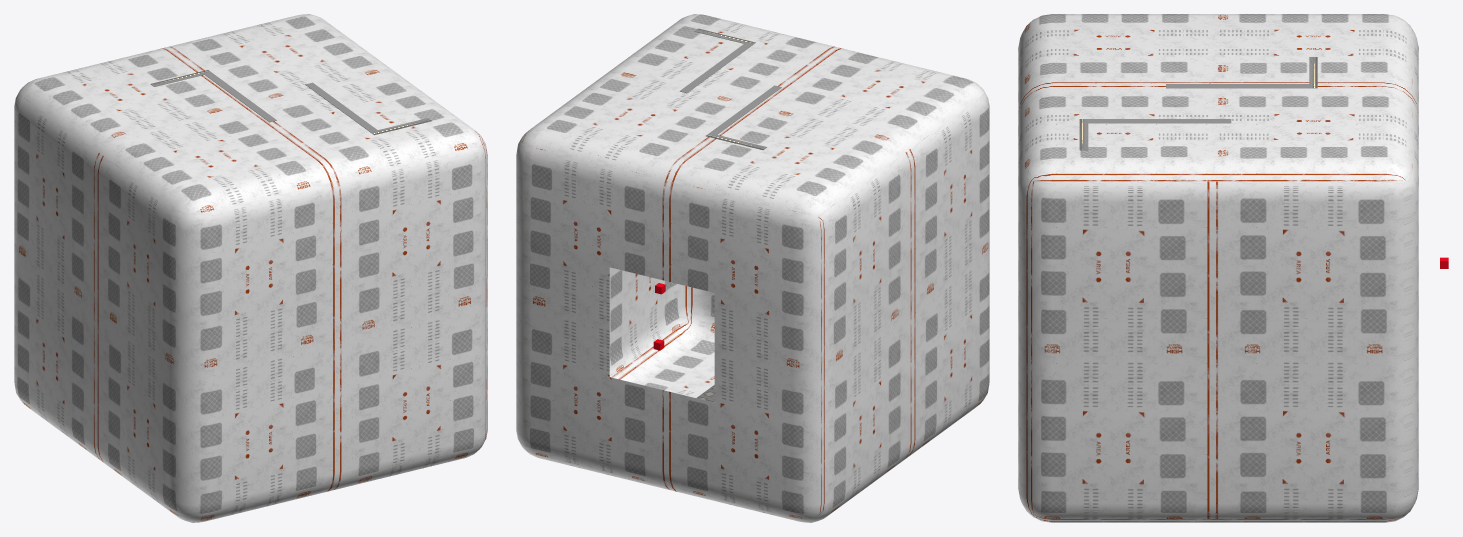
File: test-lvl.glb
The picture shows the model from 3 angles, left to right: view 1: azimuth 30°, elevation 25°; view 2: azimuth 150°, elevation 25°; view 3: azimuth 270°, elevation 25°; orthographic projection. The views are drawn at different scales.
Visible parts, largest first — view 1: Cube, Cube.002; view 2: Cube, Cube.002; view 3: Cube, Cube.002.
Part boxes in pixels (box(x1,y1,x2,y2)): Cube: box(14, 14, 487, 522); Cube.002: box(150, 70, 431, 135); Cube: box(516, 14, 989, 522); Cube.002: box(679, 28, 781, 149); Cube: box(1018, 14, 1418, 522); Cube.002: box(1079, 57, 1317, 150).
Bounding box in the file's own units: 93.01 × 93.24 × 99.97.
5 materials, 3 textured.
